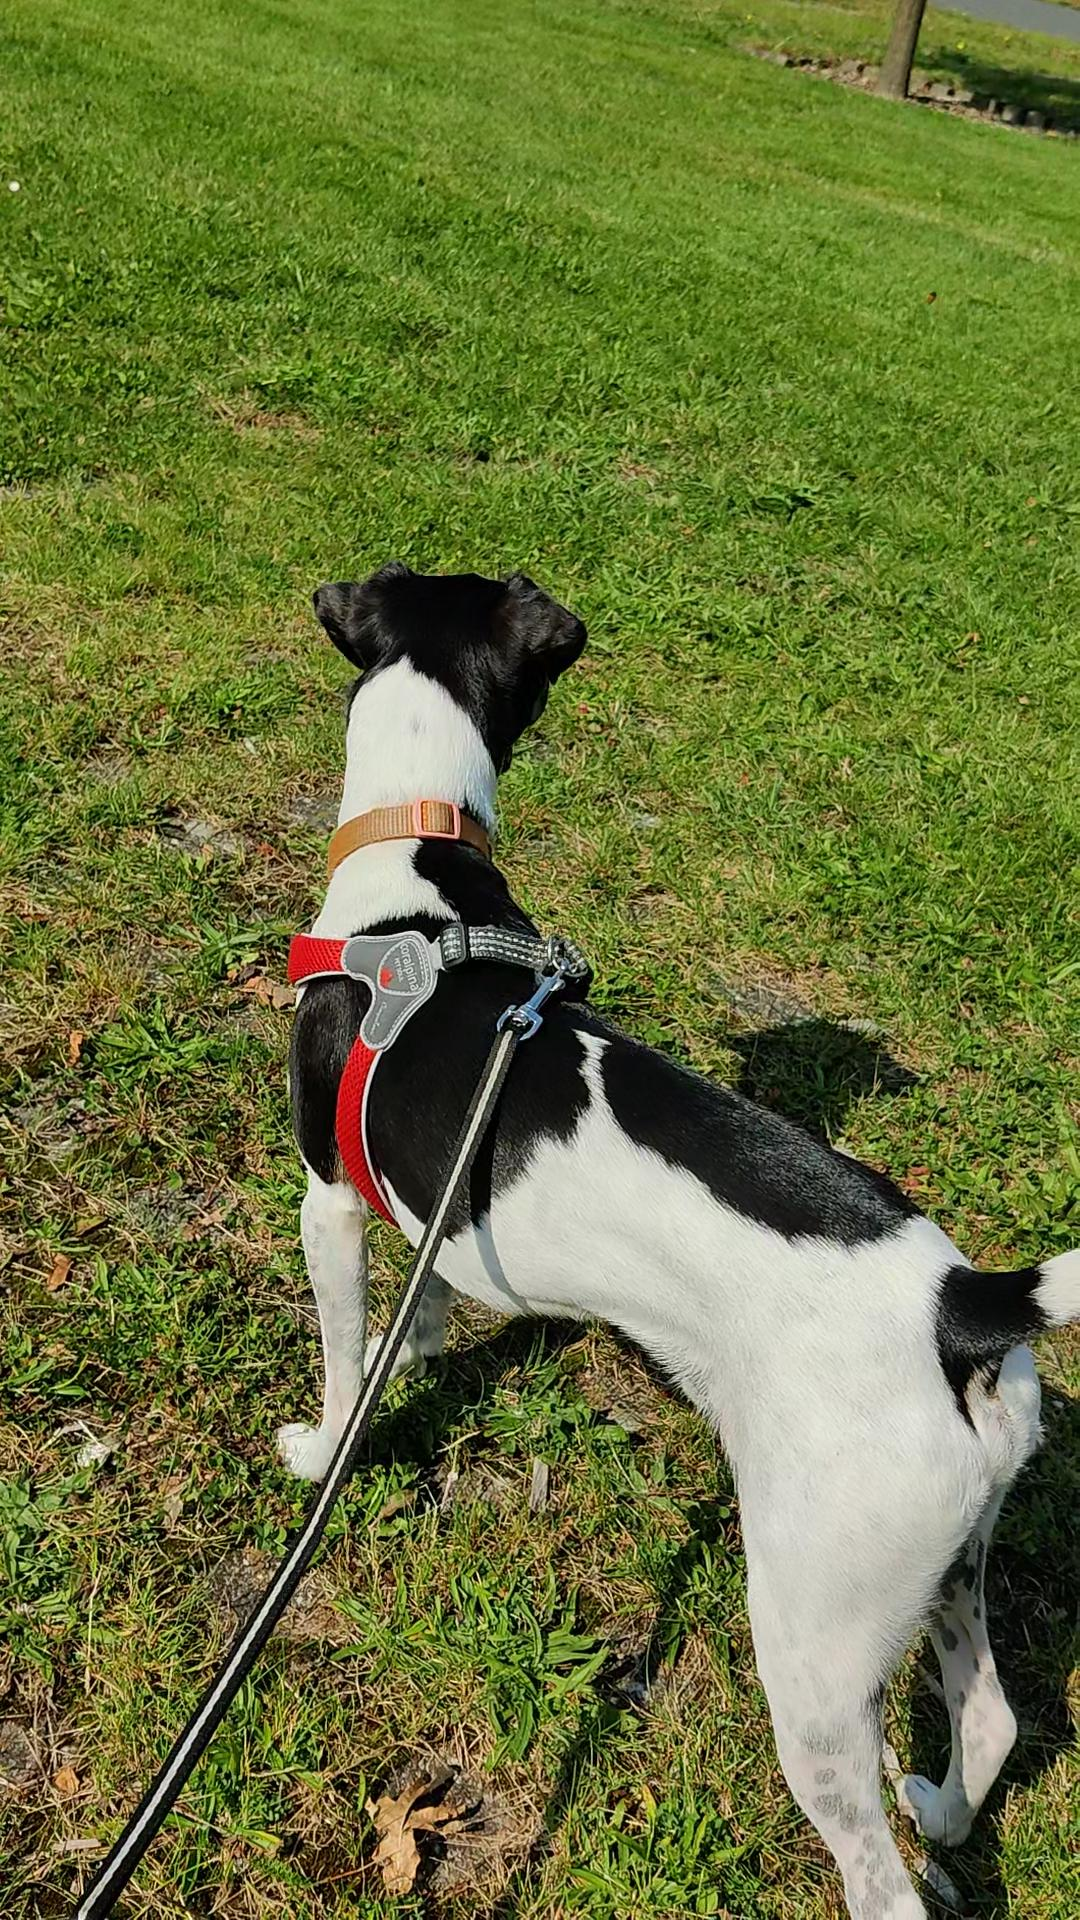Dog: (237, 526, 1079, 1919)
